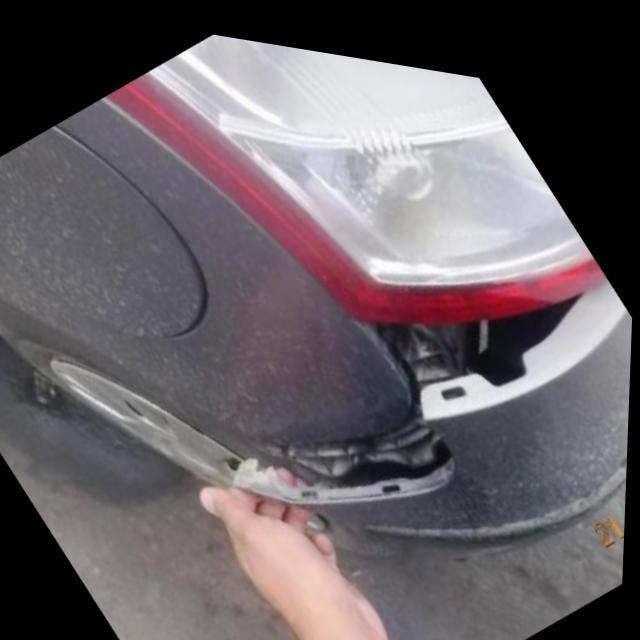dislocated part: (243, 274, 588, 505)
